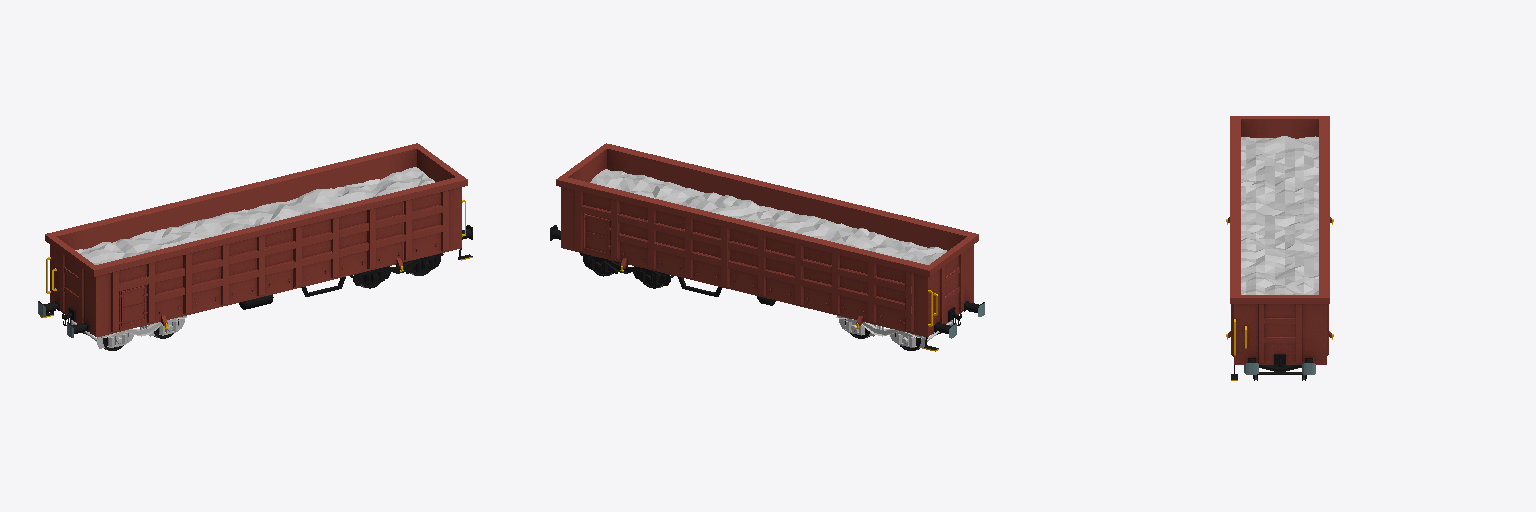
The picture shows the model from 3 angles: view 1: azimuth 30°, elevation 25°; view 2: azimuth 150°, elevation 25°; view 3: azimuth 270°, elevation 25°; orthographic projection.
Visible parts, largest first — view 1: FRAME_Cube.001, CARGO_FILL_75_Plane.004, BOGEY_FRONT_Cube.019, BOGEY_REAR_Cube.018; view 2: FRAME_Cube.001, CARGO_FILL_75_Plane.004, BOGEY_FRONT_Cube.019, BOGEY_REAR_Cube.018; view 3: FRAME_Cube.001, CARGO_FILL_75_Plane.004.
Part boxes in pixels (left/top/right/bottom): FRAME_Cube.001: left=38, top=143, right=472, bottom=337; CARGO_FILL_75_Plane.004: left=75, top=167, right=434, bottom=264; BOGEY_FRONT_Cube.019: left=71, top=316, right=186, bottom=348; BOGEY_REAR_Cube.018: left=350, top=253, right=443, bottom=285; FRAME_Cube.001: left=550, top=143, right=984, bottom=351; CARGO_FILL_75_Plane.004: left=590, top=169, right=946, bottom=264; BOGEY_FRONT_Cube.019: left=836, top=316, right=952, bottom=348; BOGEY_REAR_Cube.018: left=580, top=253, right=673, bottom=285; FRAME_Cube.001: left=1226, top=116, right=1333, bottom=380; CARGO_FILL_75_Plane.004: left=1241, top=136, right=1318, bottom=294.
Size of the model in its own units: 14.42 by 3.36 by 3.33.
Materials: 7 (5 with a texture image).